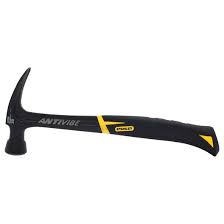hammer: (3, 66, 219, 157)
